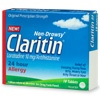grozi_39: (2, 8, 98, 92)
